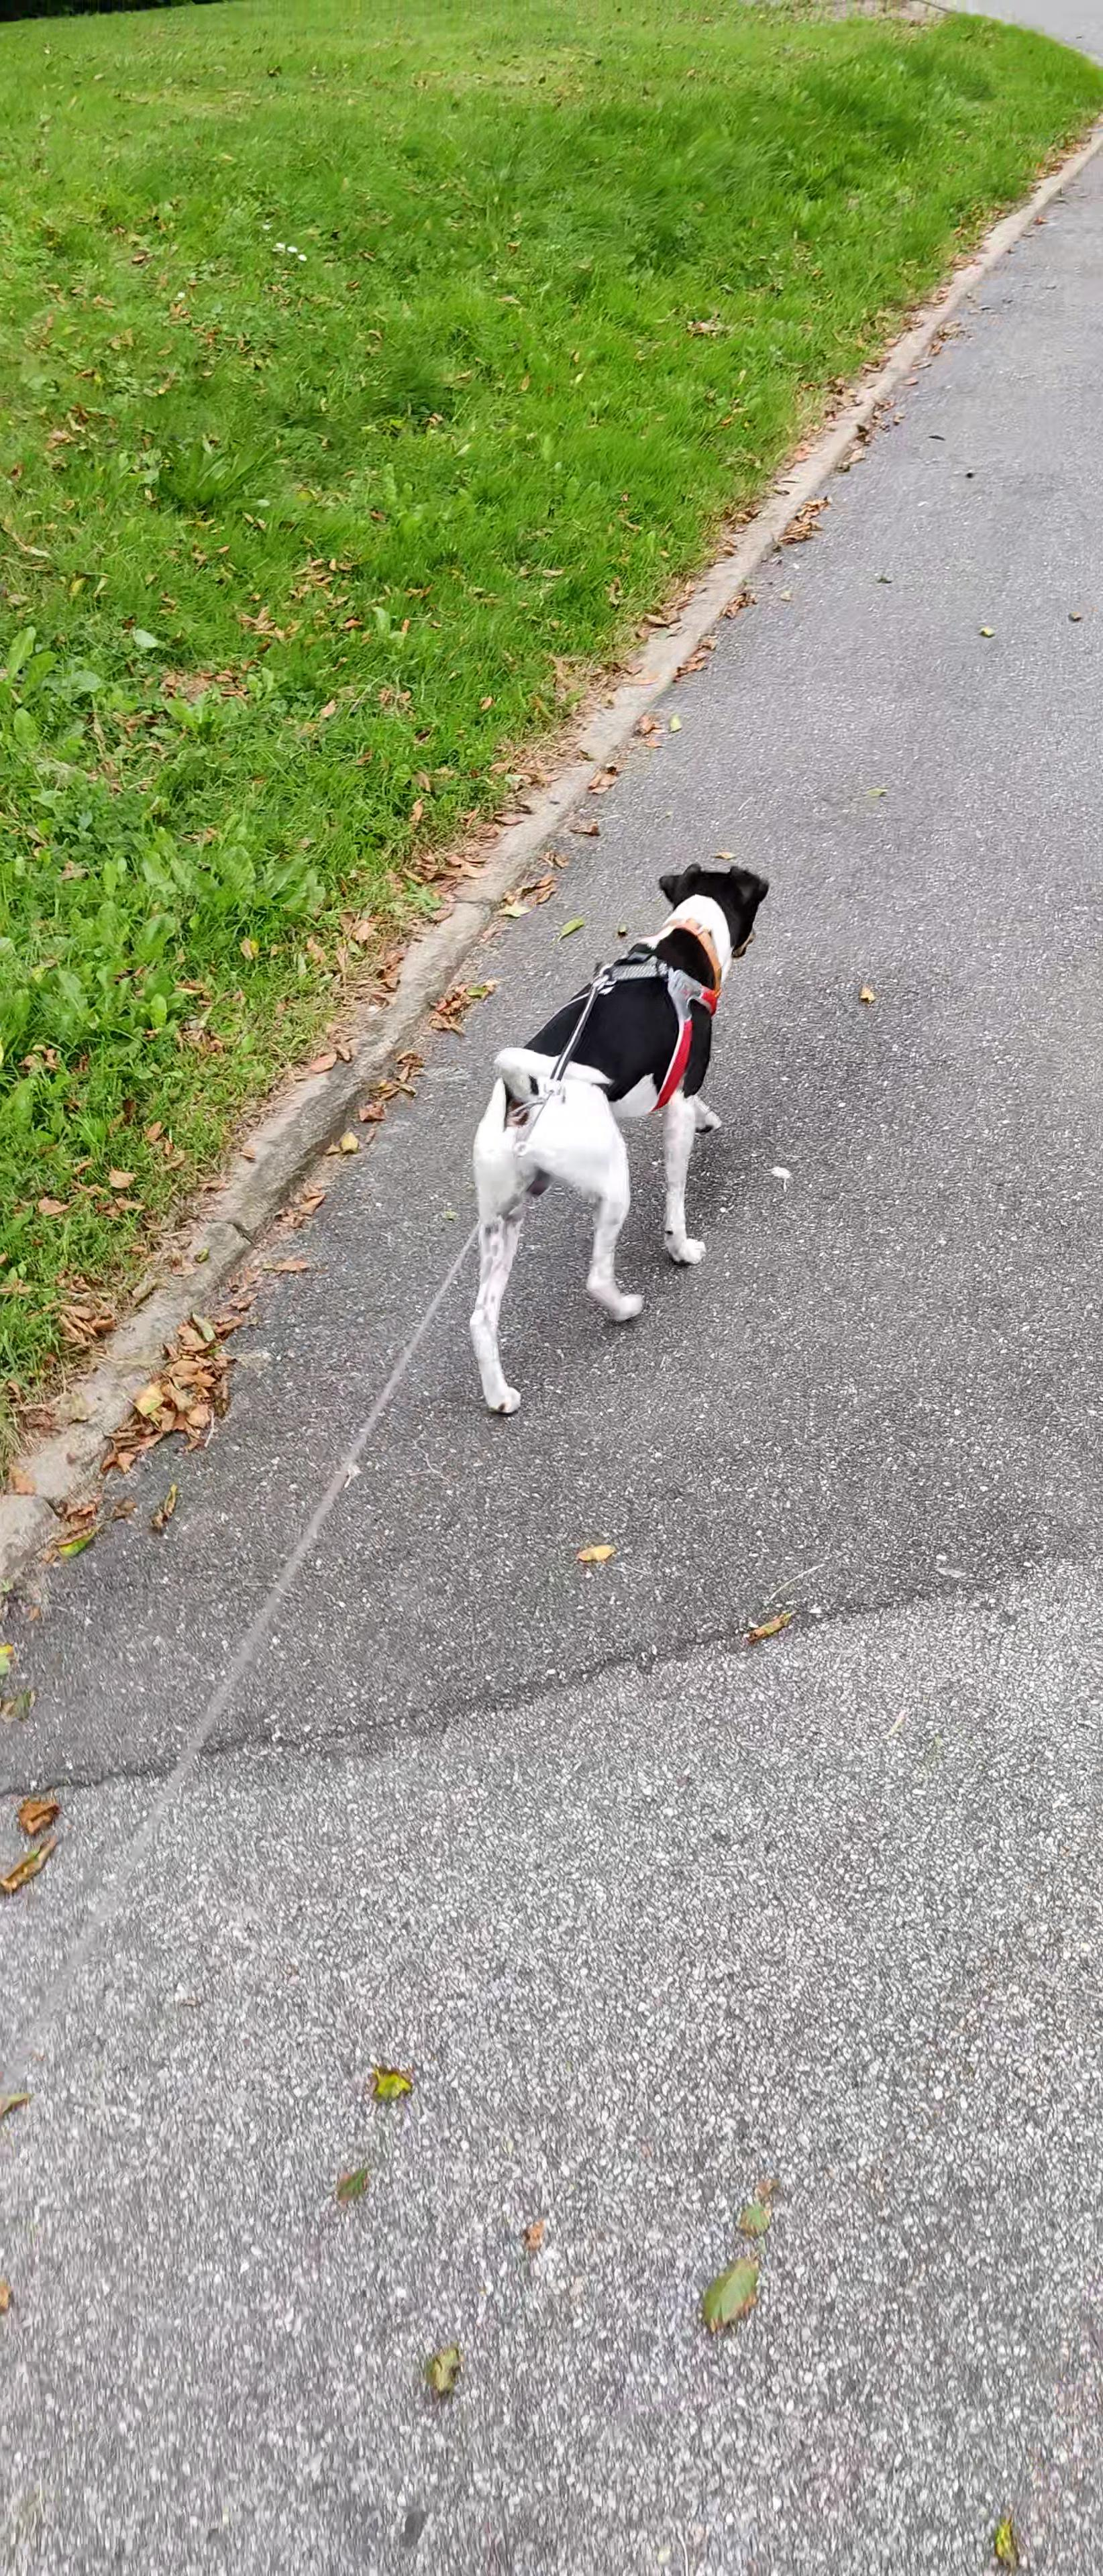Dog: (391, 835, 817, 1439)
